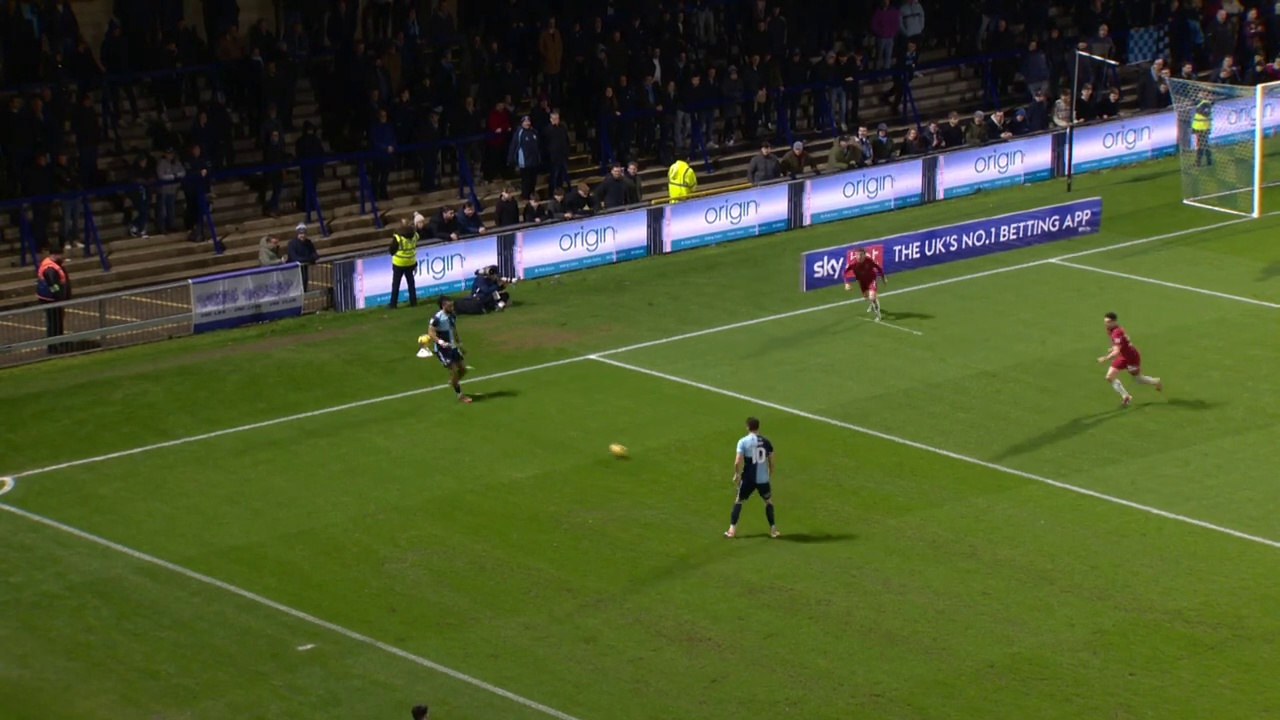ball: (496, 499, 515, 519)
